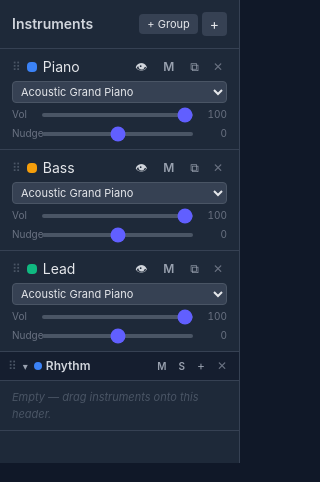
Test: InstrumentsPanel groups › creating and removing › renames a group in place
The image size is (320, 482).
Double-click the text "Rhythm" at (68, 366), box [46,358,90,373]
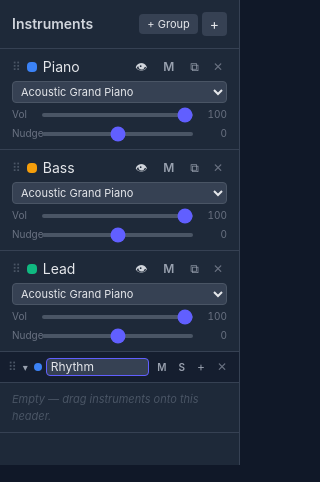
Replace the text in the field named "Rename Rhythm" with "Backline" at (98, 367), box [46,358,149,376]
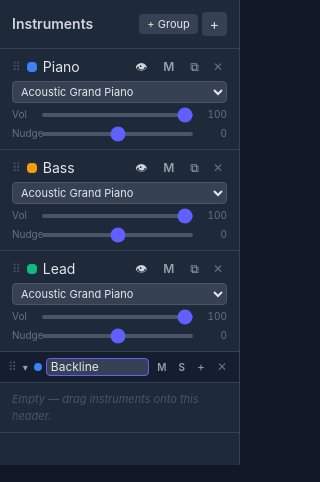
Press Enter in the field named "Rename Rhythm", box [46,358,149,376]
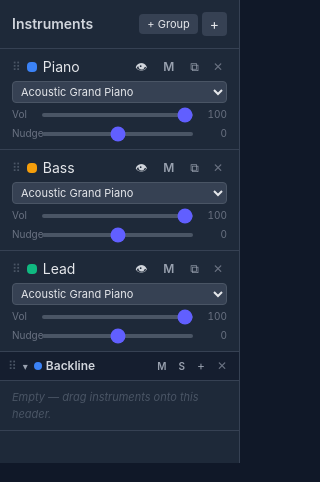
Result: the text "Backline" is shown at [46,358,95,373]
